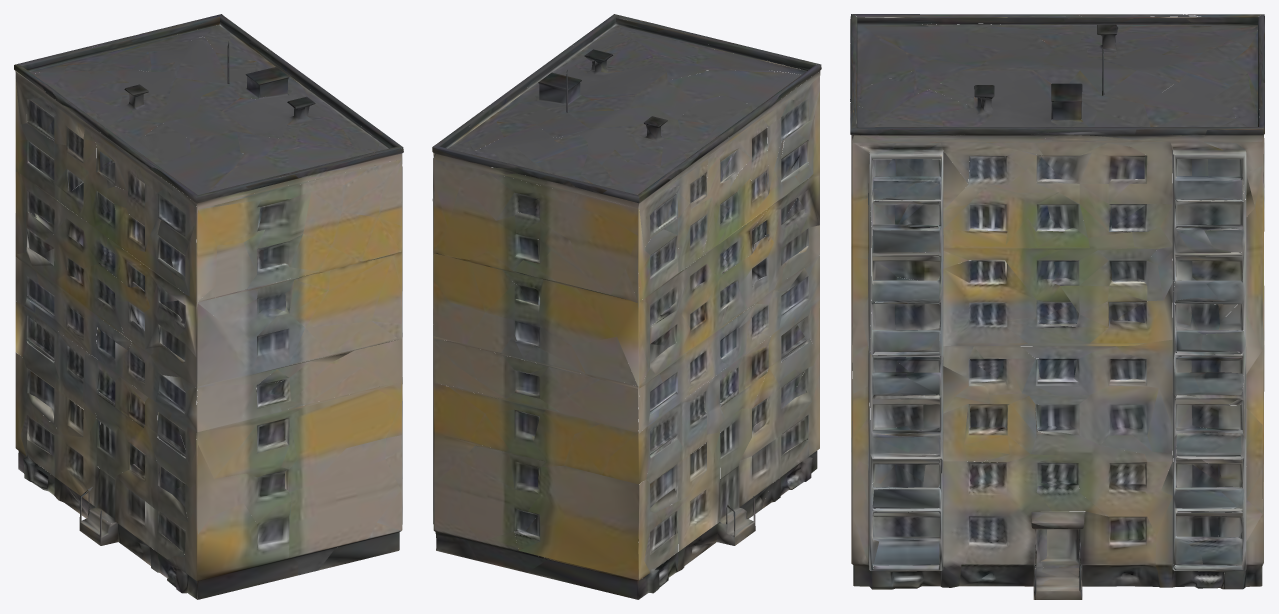
Rendered from panelak.glb.
3 renders of one model, left to right at view 1: azimuth 30°, elevation 25°; view 2: azimuth 150°, elevation 25°; view 3: azimuth 270°, elevation 25°, orthographic. The views are drawn at different scales.
Visible parts, largest first — view 1: tripo_node_06e77639-b53b-45b4-af7d-3a397def9132; view 2: tripo_node_06e77639-b53b-45b4-af7d-3a397def9132; view 3: tripo_node_06e77639-b53b-45b4-af7d-3a397def9132.
Boxes of the visible parts, x1,y1,x2,y2 form: tripo_node_06e77639-b53b-45b4-af7d-3a397def9132: [14, 14, 403, 599]; tripo_node_06e77639-b53b-45b4-af7d-3a397def9132: [432, 14, 821, 599]; tripo_node_06e77639-b53b-45b4-af7d-3a397def9132: [850, 14, 1264, 599].
Size of the model in its own units: 0.5808 by 1 by 0.7432.
1 material, 1 textured.
